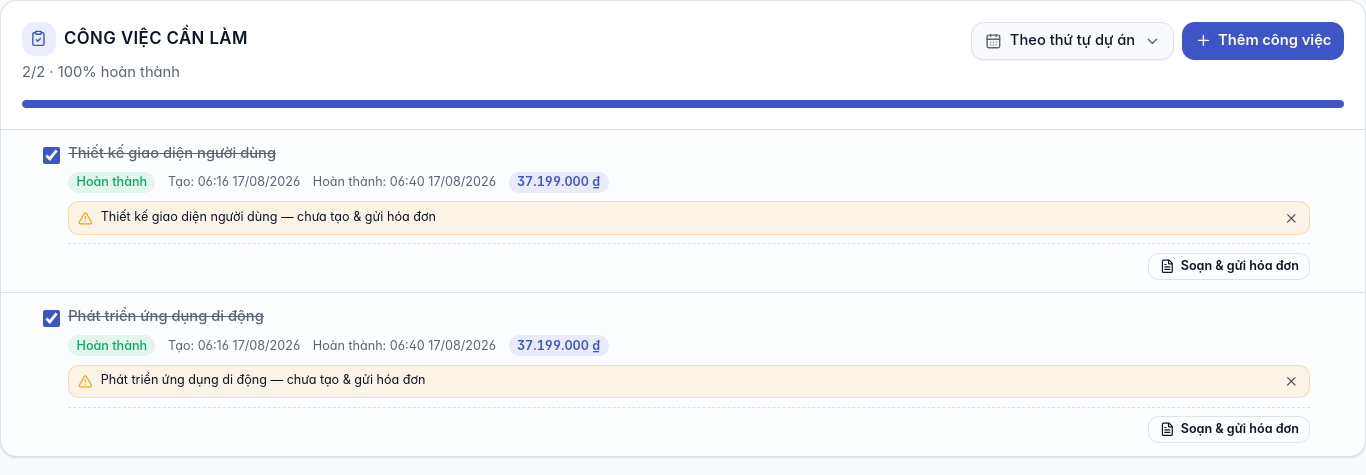
it: dòng nhắc hóa đơn trong bảng việc › bỏ nhắc một mốc thì mốc kia GIỮ NGUYÊN dòng nhắc của nó
Click the button named "Bỏ nhắc hóa đơn cho Thiết kế giao diện người dùng" at (1292, 218), box [1282, 209, 1301, 228]
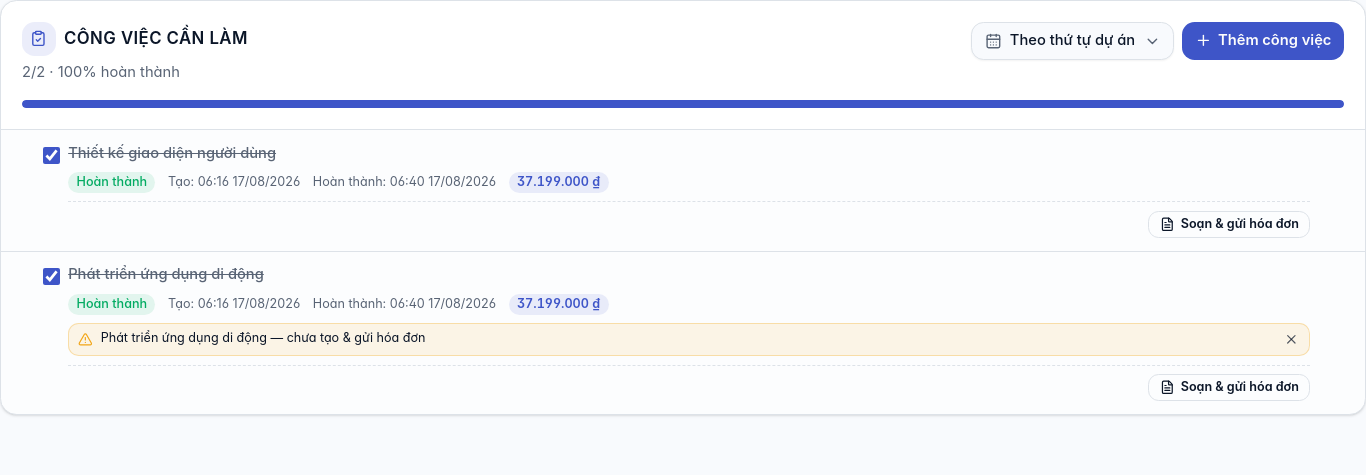
Expected: the text "Phát triển ứng dụng di động — chưa tạo & gửi hóa đơn" is shown once, [101, 330, 425, 345]
